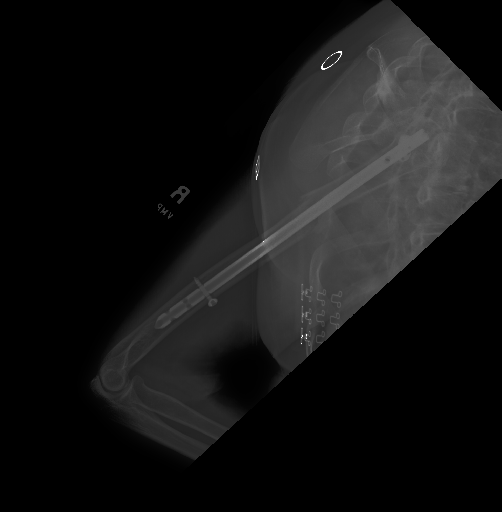implant: (288, 273, 350, 354), (157, 276, 234, 333), (372, 123, 438, 174)
